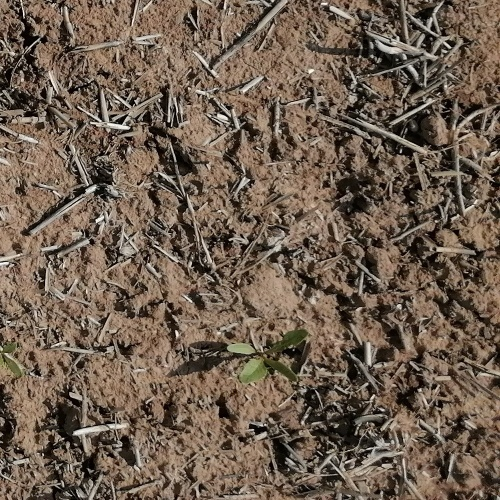beet: (222, 329, 310, 385), (0, 338, 28, 378)
